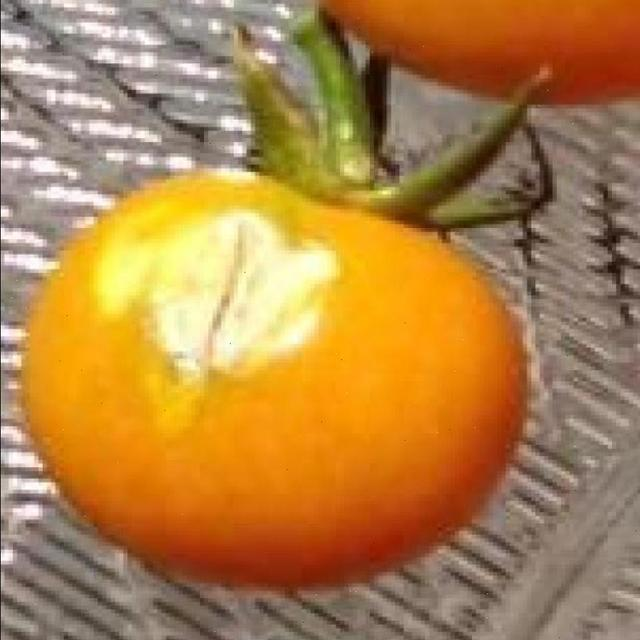Sunscald Fruit: (41, 124, 250, 298)
